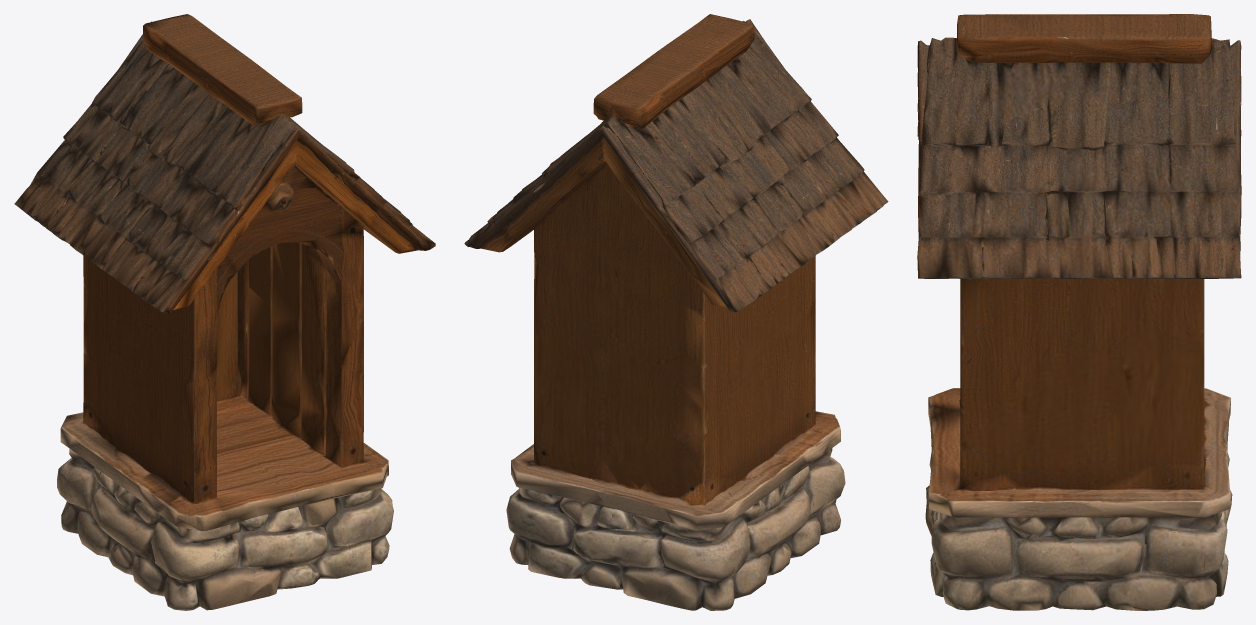
The model's file is belltower.glb.
The picture shows the model from 3 angles, left to right: view 1: azimuth 30°, elevation 25°; view 2: azimuth 150°, elevation 25°; view 3: azimuth 270°, elevation 25°; orthographic projection. The views are drawn at different scales.
Bounding box in the file's own units: 1.15 × 1.9 × 1.06.
Materials: 1 (1 with a texture image).
